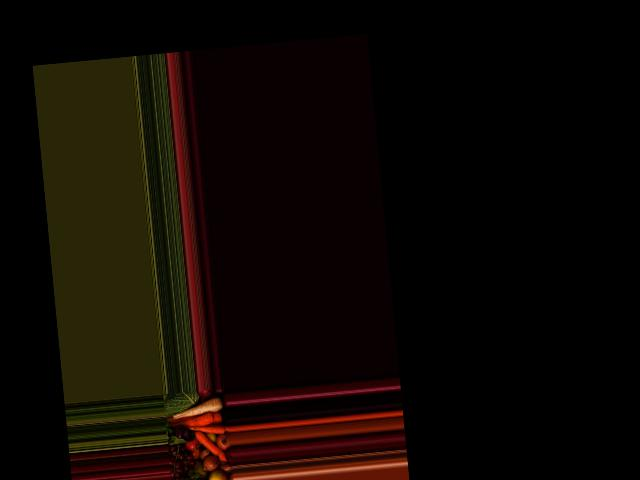carrot: (171, 415, 216, 427)
